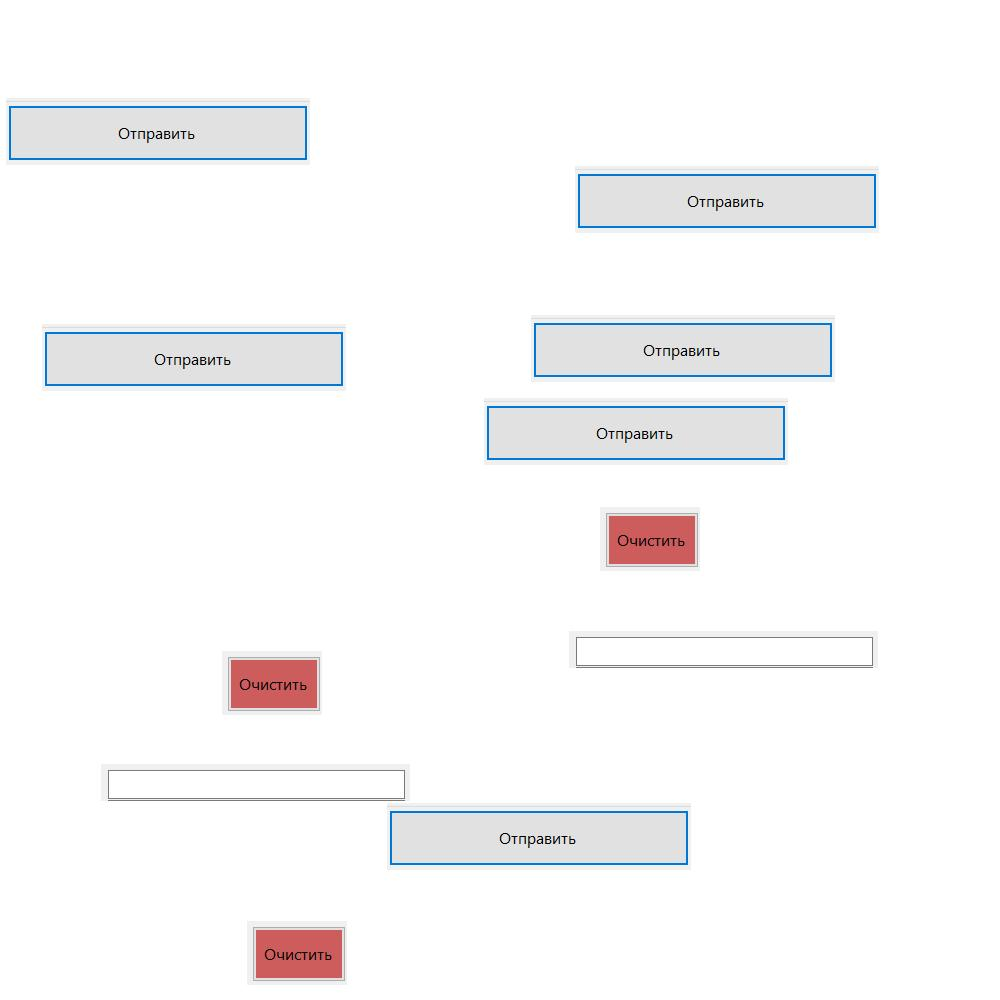Button: (575, 166, 879, 233), (6, 98, 310, 165), (42, 324, 346, 391), (484, 398, 788, 465), (387, 803, 691, 870), (531, 315, 835, 382), (222, 651, 322, 715), (247, 921, 347, 985), (600, 507, 700, 571)
EditText-: (101, 764, 410, 801), (569, 631, 878, 668)
